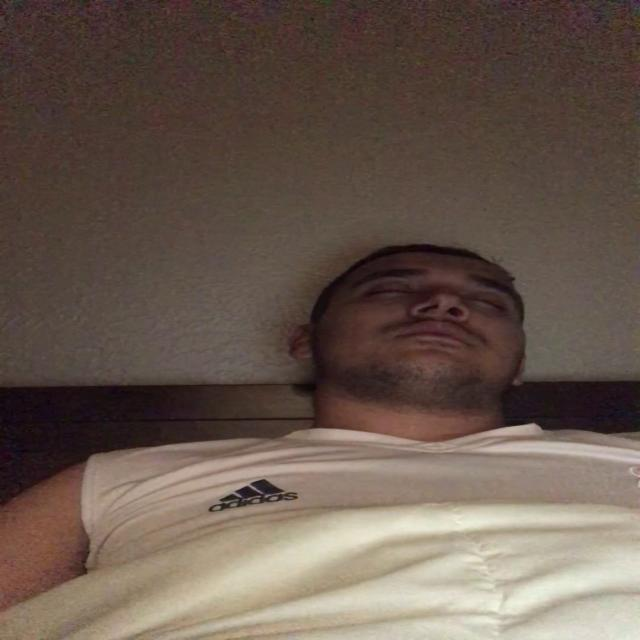sem_oculos: (298, 266, 556, 317)
